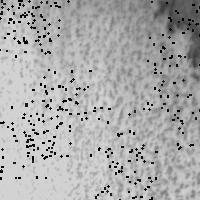pitted_surface: (2, 10, 196, 198), (84, 107, 143, 165), (11, 99, 69, 157), (30, 69, 89, 125), (95, 147, 155, 200), (153, 1, 198, 68), (149, 1, 200, 58), (147, 55, 200, 109), (0, 120, 49, 177), (0, 0, 49, 55), (7, 0, 67, 41), (1, 0, 57, 37), (172, 89, 200, 148)
